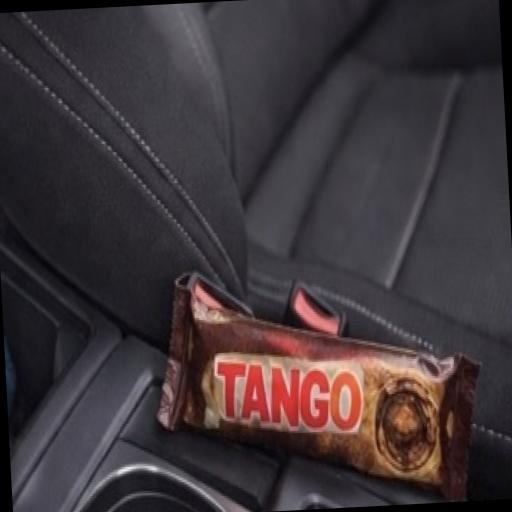tango: (92, 162, 502, 512)
